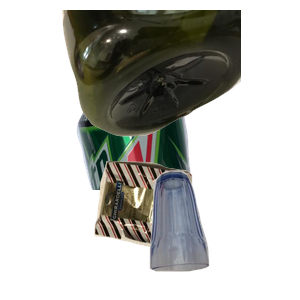glass: (147, 168, 300, 300)
metal: (74, 74, 257, 254)
plastic: (60, 10, 300, 139)
trash: (92, 158, 277, 300)
